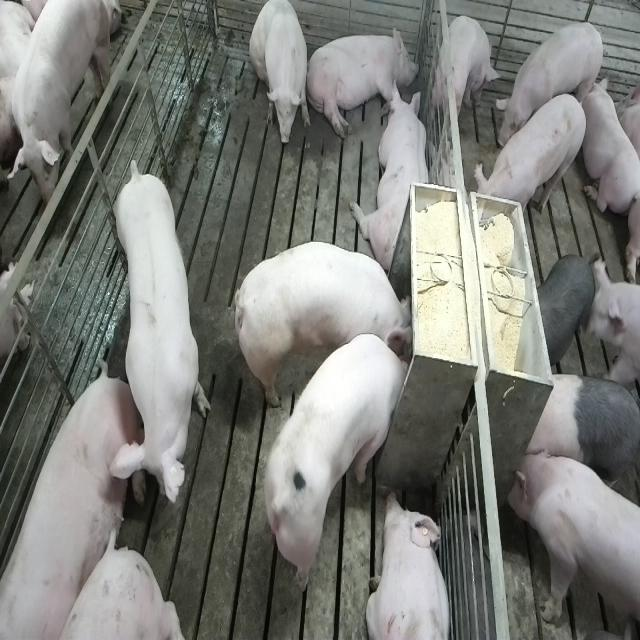Feeding: (258, 332, 411, 596), (241, 240, 420, 408)
Lateral_lying: (305, 23, 418, 140)
Sitting: (250, 0, 310, 147)
Standing: (111, 153, 211, 516), (506, 447, 638, 640), (0, 0, 115, 219), (518, 369, 638, 522), (474, 90, 588, 226), (495, 19, 605, 148), (435, 13, 501, 131), (534, 252, 597, 368)
Sternal_lying: (352, 82, 433, 274), (368, 490, 454, 640), (580, 74, 637, 215)
